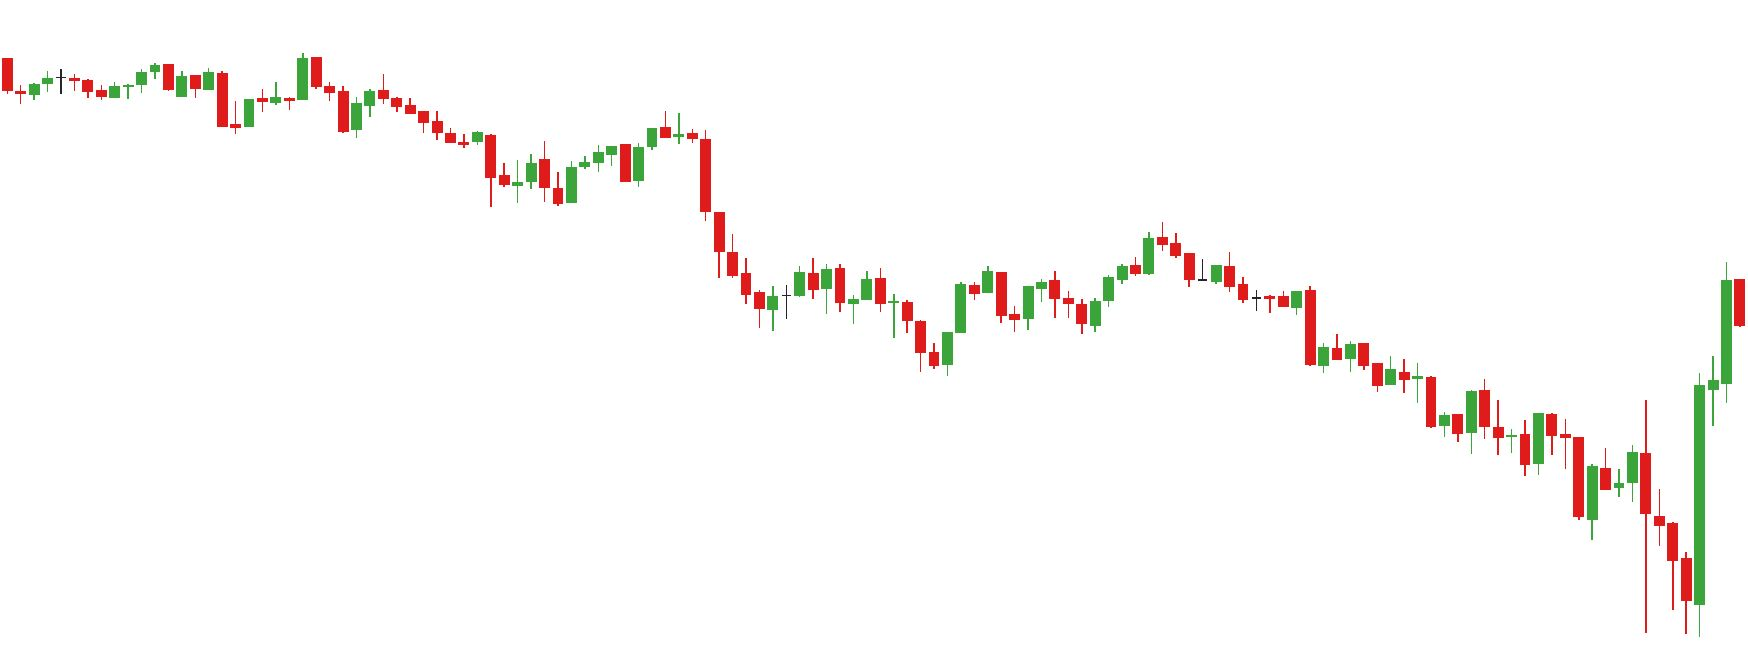sell: (203, 53, 326, 113)
